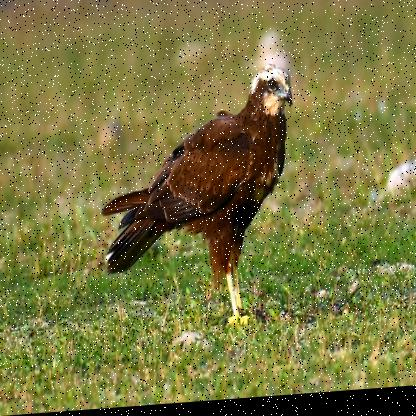Burung: (104, 66, 294, 343)
